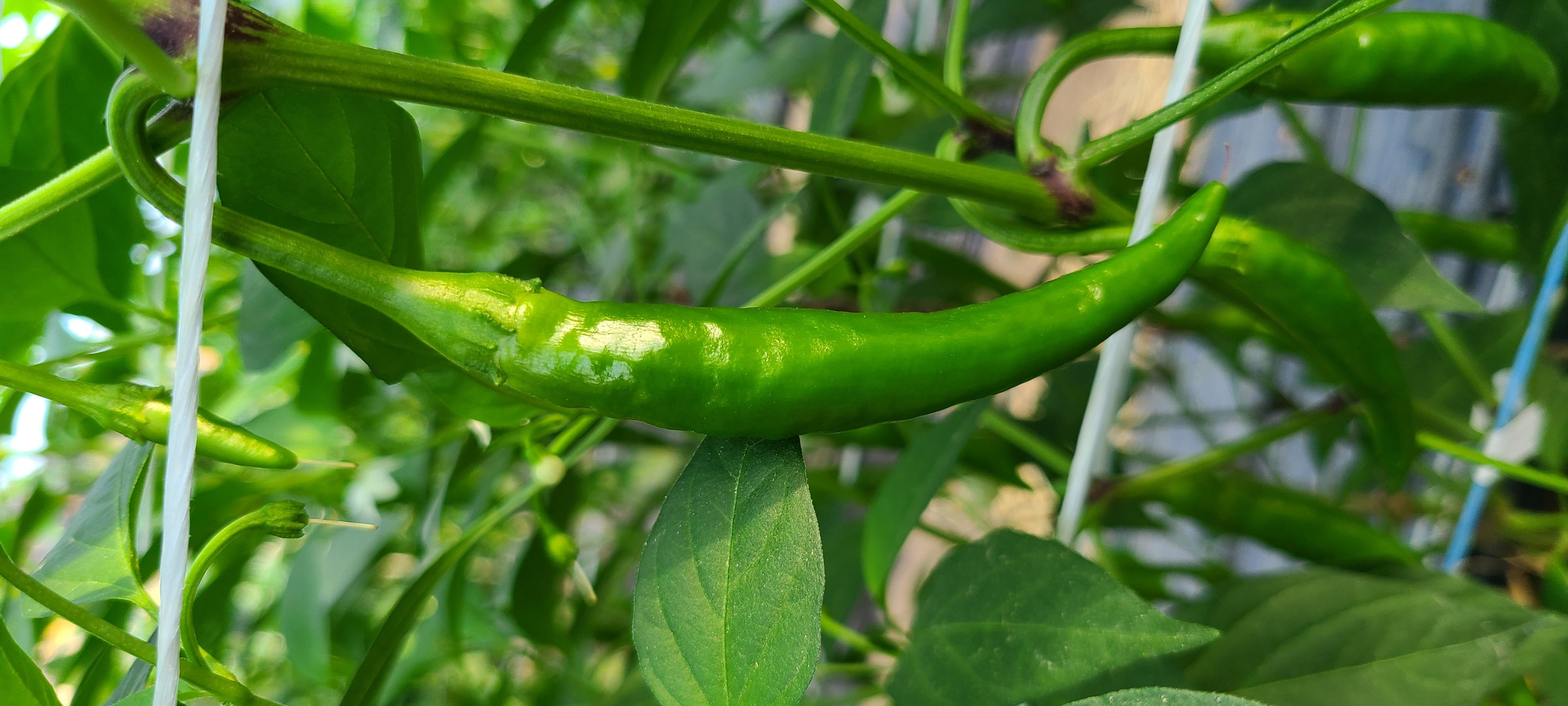Buah Cabai Sehat: (406, 174, 1236, 447), (1202, 12, 1568, 124)
Daun Cabai Sehat: (875, 527, 1218, 706), (628, 438, 829, 706)
